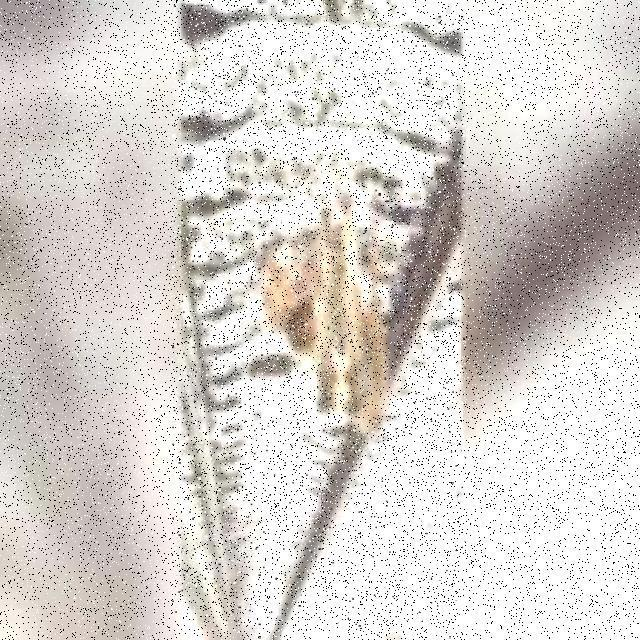danger: (240, 209, 397, 448)
rail: (173, 6, 465, 638)
